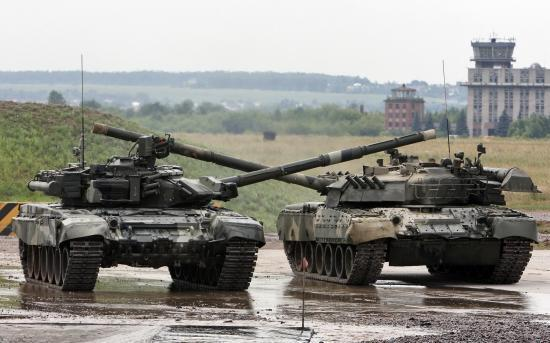tank: (90, 121, 542, 288), (11, 128, 439, 294)
